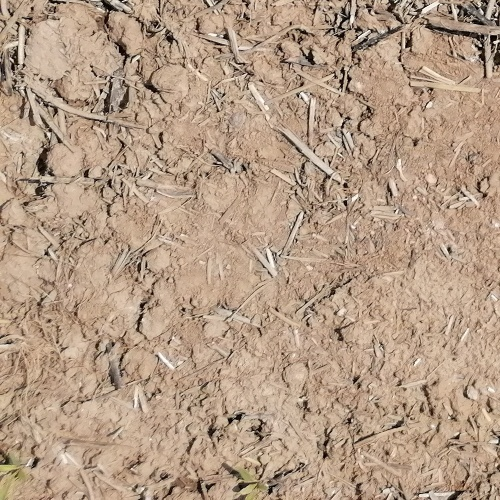beet: (0, 455, 30, 500), (237, 464, 269, 500)
